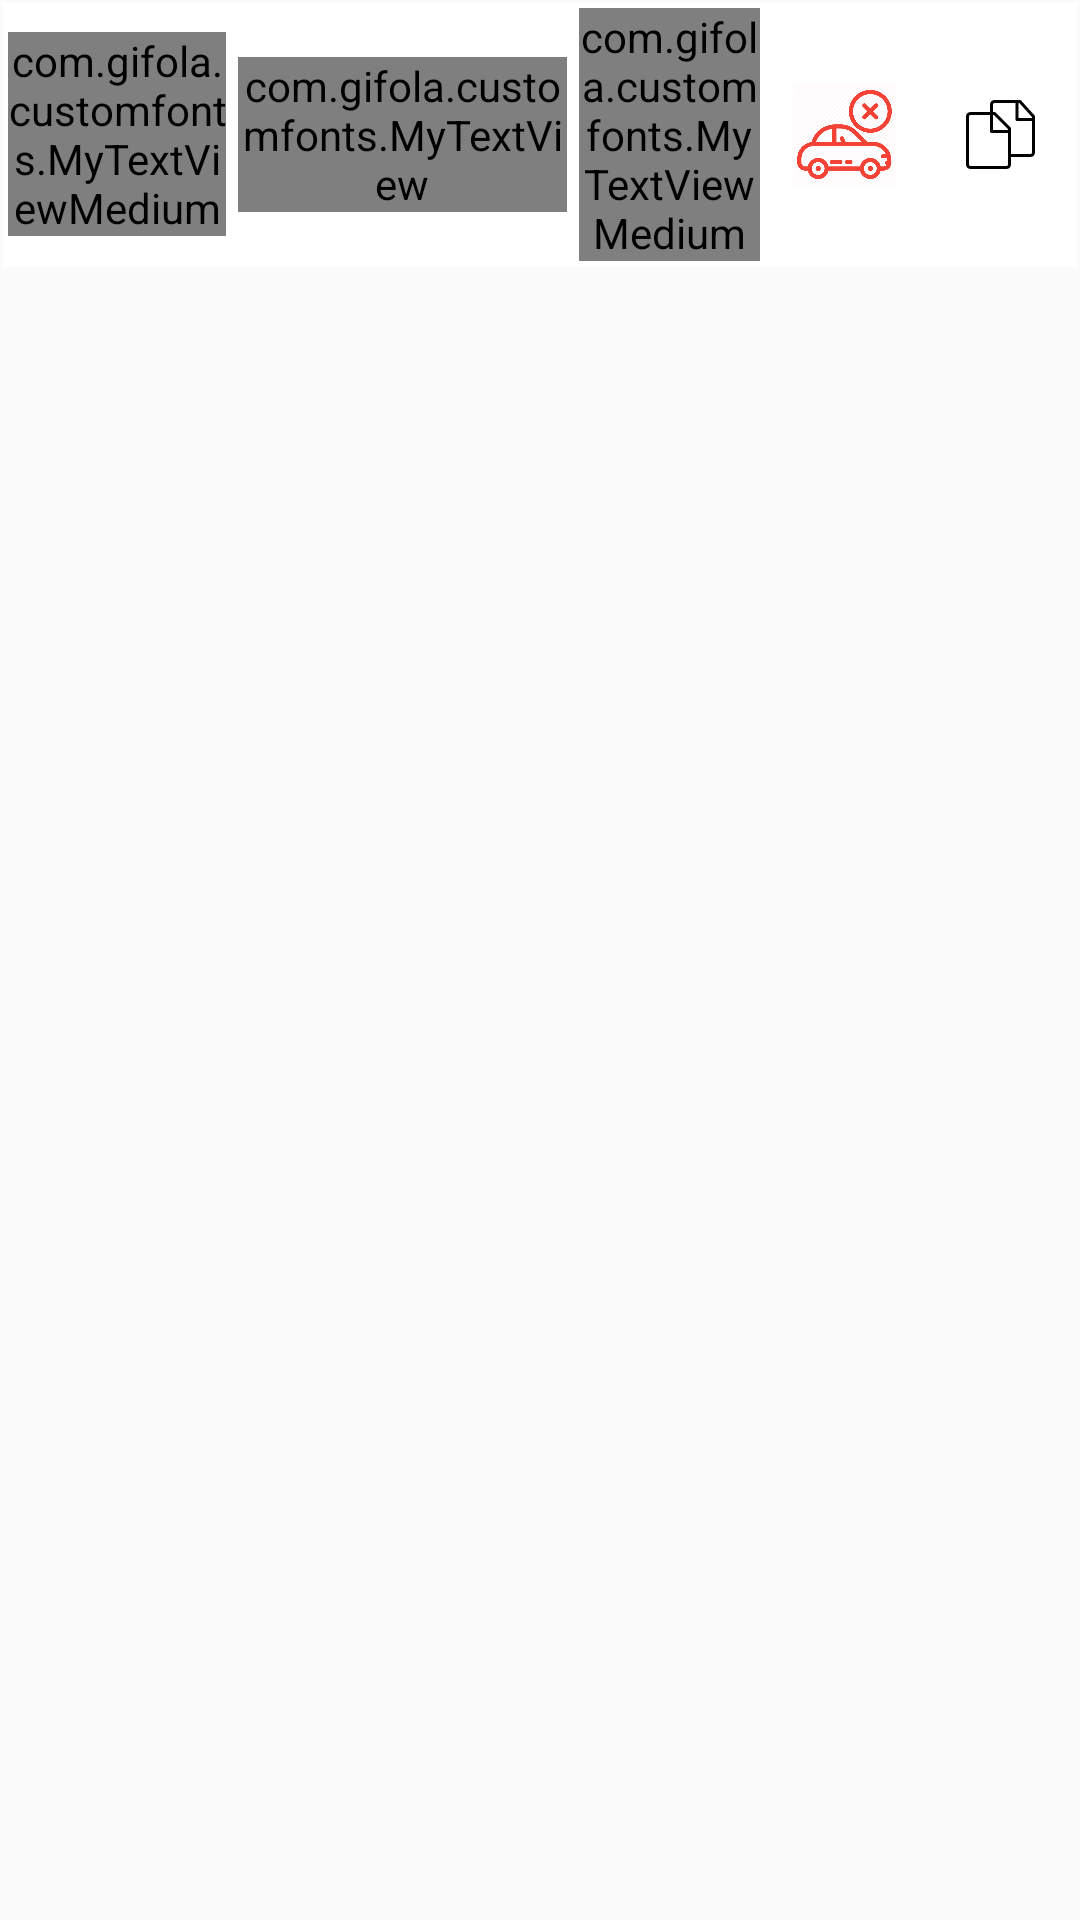

Icon bounding boxes for this 1080x1920 phone screenshot, format (x1, y1, x2, y2):
cardelete: (797, 90, 892, 179)
